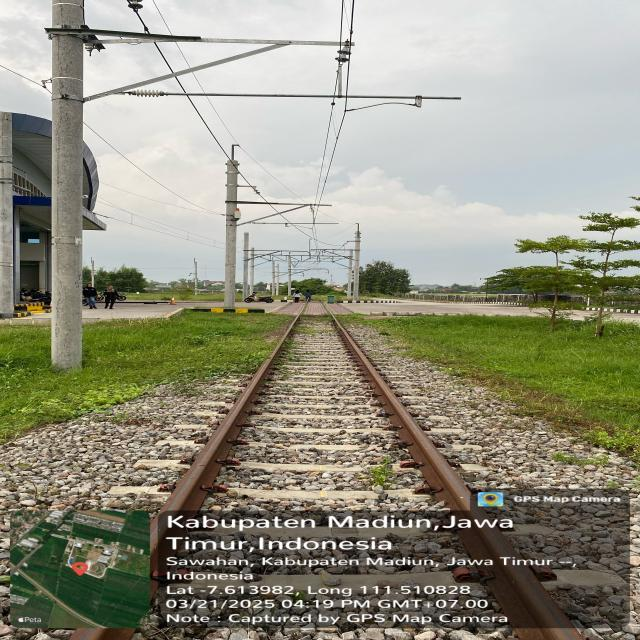rail-detection: (334, 320, 583, 640), (150, 330, 289, 576)
